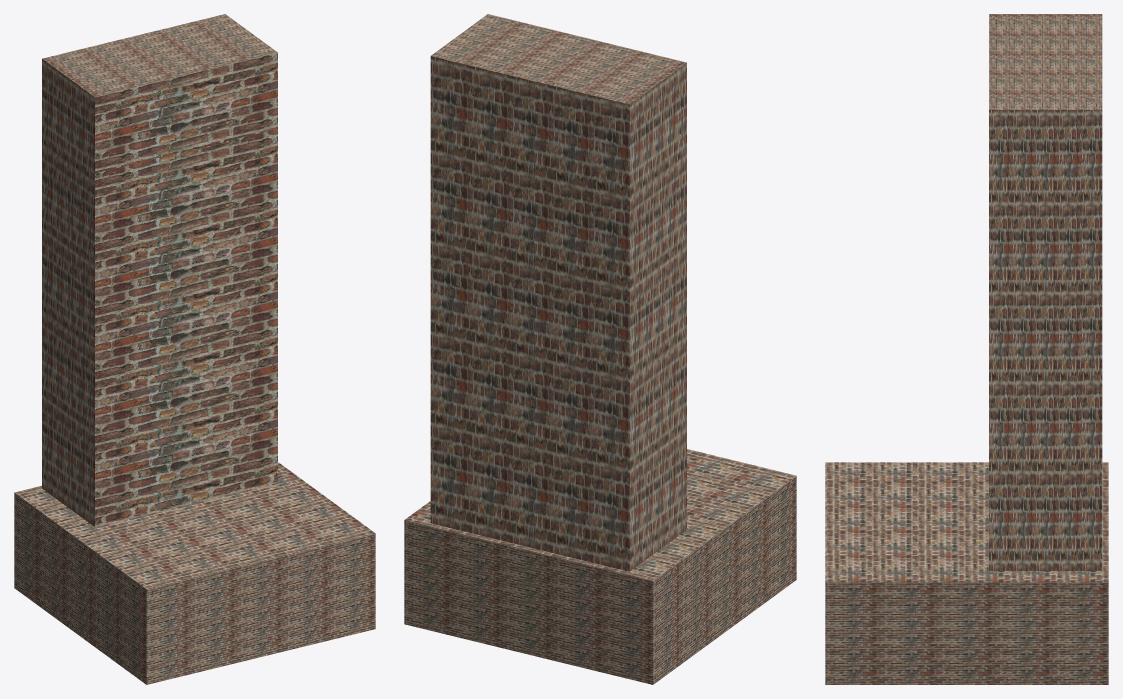
File: firepit.FBX
The picture shows the model from 3 angles, left to right: view 1: azimuth 30°, elevation 25°; view 2: azimuth 150°, elevation 25°; view 3: azimuth 270°, elevation 25°; orthographic projection. The views are drawn at different scales.
Parts seen in each view (by area): view 1: Flume, FirePit; view 2: Flume, FirePit; view 3: Flume, FirePit.
Boxes of the visible parts, x1,y1,x2,y2 form: Flume: (42,14,277,527); FirePit: (14,462,375,684); Flume: (430,14,686,571); FirePit: (404,449,796,684); Flume: (989,14,1102,570); FirePit: (825,462,1108,684).
Size of the model in its own units: 49.21 by 108 by 49.21.
1 material, 1 textured.
